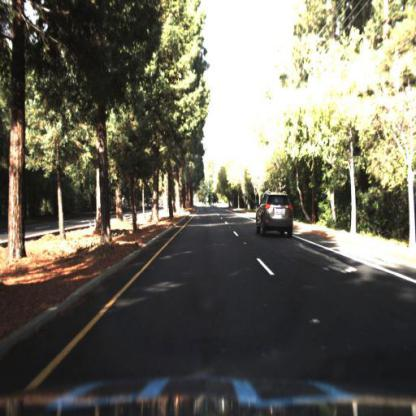car: (256, 191, 294, 239)
